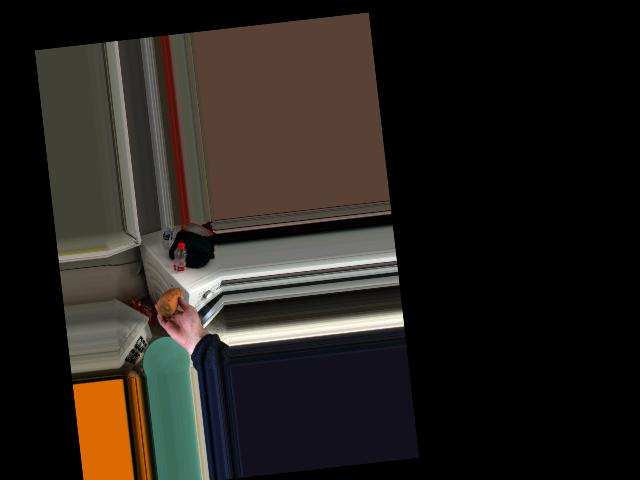sweet_potato: (158, 286, 188, 321)
